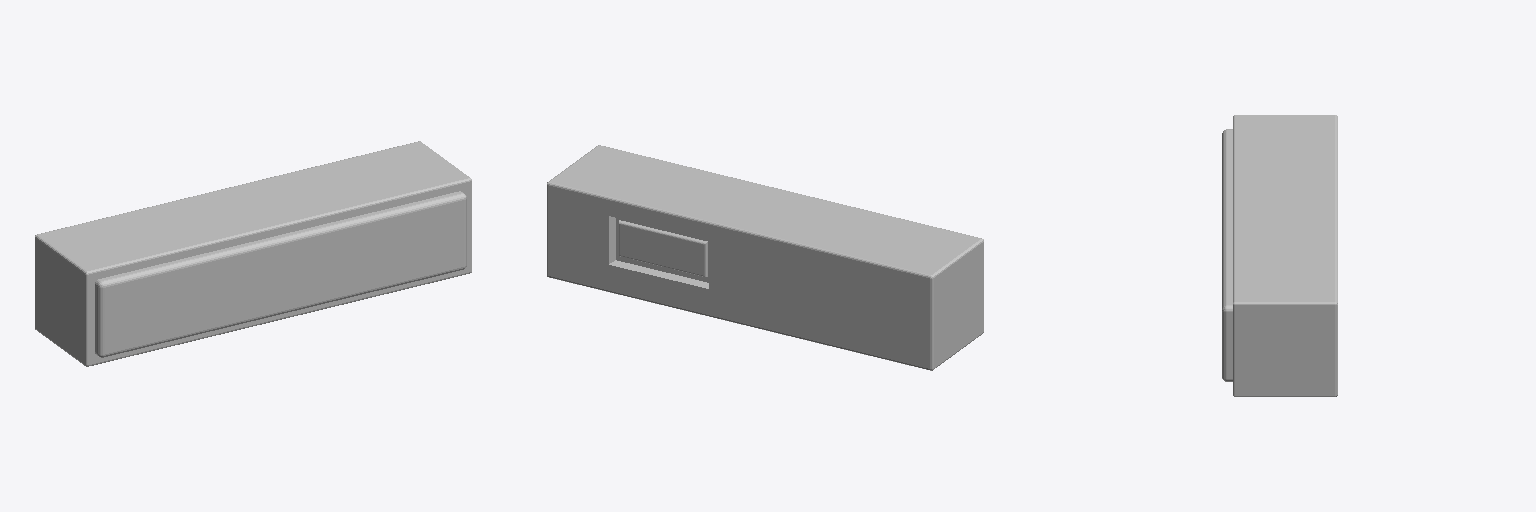
Rendered from detail_box.obj.
3 views of the same model, side by side, from view 1: azimuth 30°, elevation 25°; view 2: azimuth 150°, elevation 25°; view 3: azimuth 270°, elevation 25° (orthographic).
Parts seen in each view (by area): view 1: pCube1; view 2: pCube1; view 3: pCube1.
Part boxes in pixels (x1,y1,x2,y2): pCube1: (35,141,471,366); pCube1: (547,145,983,370); pCube1: (1222,115,1337,396).
Bounding box in the file's own units: 4.25 × 1 × 1.1.